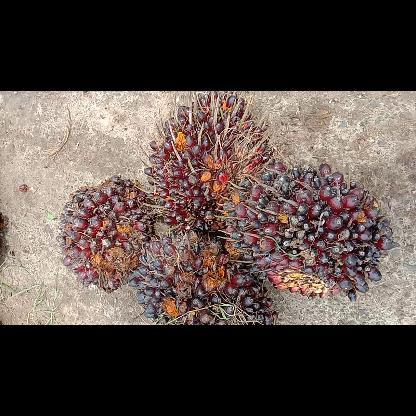Kurang masak: (219, 159, 395, 303), (140, 90, 276, 235), (127, 228, 278, 324), (54, 174, 156, 298)
